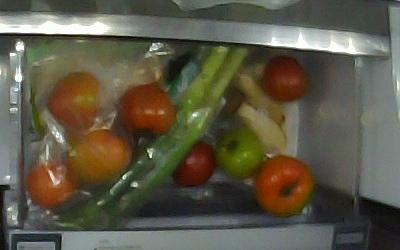tomato: (251, 153, 314, 217), (114, 81, 176, 139), (213, 126, 262, 179), (258, 54, 308, 102), (169, 138, 215, 187)
tomato_vinyl: (64, 126, 133, 186), (44, 70, 106, 129), (26, 157, 81, 208)
